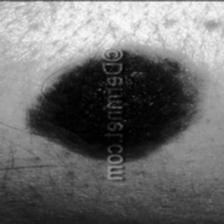Potentially Malignant Skin Tumors: (121, 43, 214, 162), (30, 54, 103, 159)
